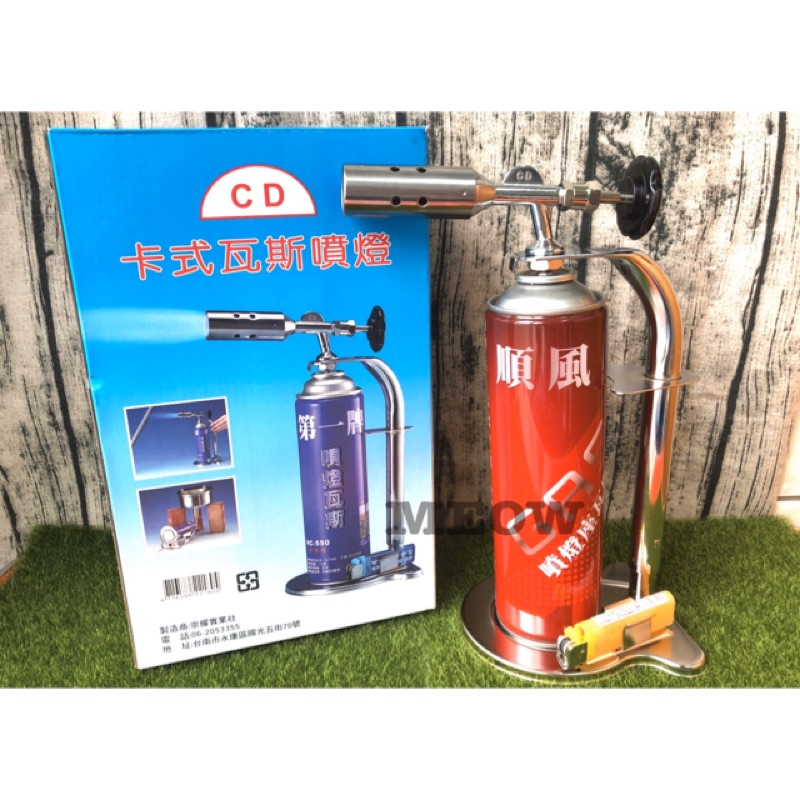gastorch: (332, 149, 715, 677), (200, 296, 427, 597)
